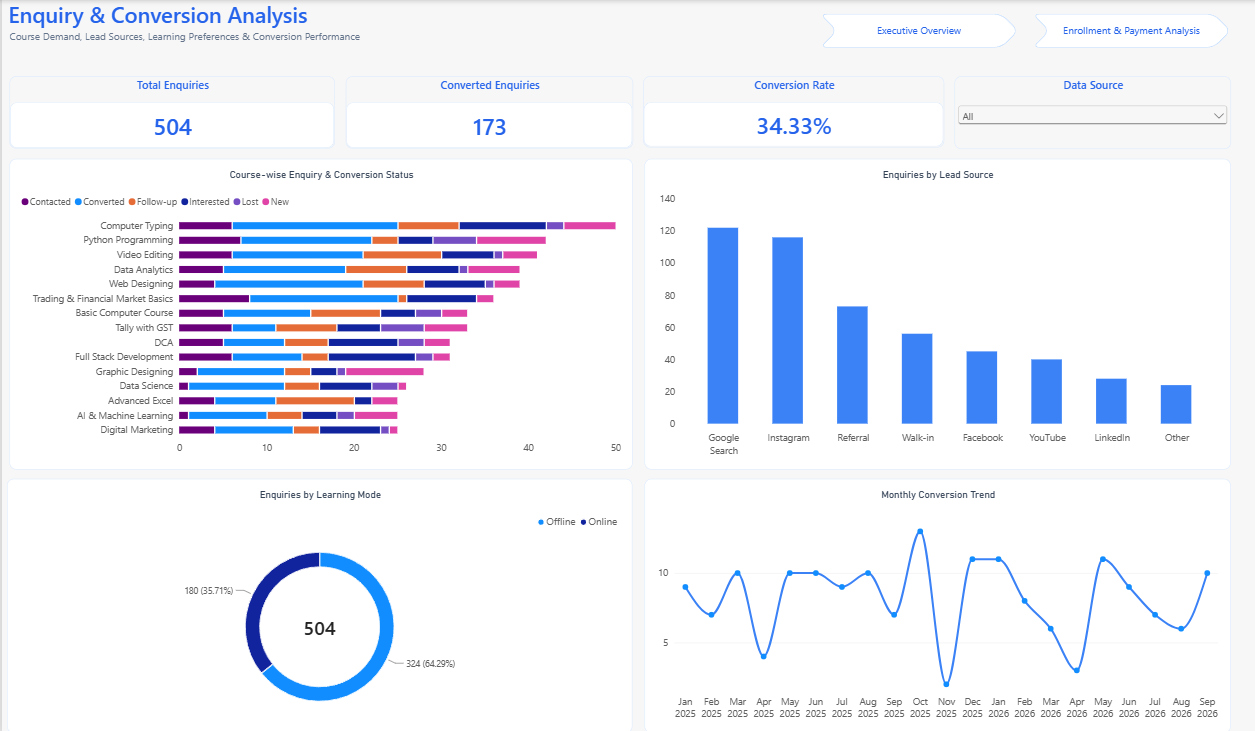

This screenshot's page, from the dashboard's own definition file:
{"tool":"powerbi","page":{"name":"Enquiry & Conversion Analysis","canvas":[1920,1080],"ordinal":1},"visuals":[{"type":"textbox","box":[10,0,524,58],"z":0},{"type":"textbox","box":[10.3,43.2,524.9,70],"z":1000},{"type":"cardVisual","title":"Total Enquiries","fields":{"Data":["CountNonNull(institute_analytics enquiries.enquiry_id)"]},"box":[10.9,112.2,479.6,106.8],"z":2000},{"type":"cardVisual","title":"Converted Enquiries","fields":{"Data":["CountNonNull(institute_analytics enquiries.enquiry_id)"]},"box":[505.5,112.2,423.5,106.8],"z":3000},{"type":"cardVisual","title":"Conversion Rate","fields":{"Data":["institute_analytics enquiries.Conversion Rate"]},"box":[944,112.2,443.4,105],"z":4000},{"type":"slicer","title":"Data Source","fields":{"Values":["institute_analytics enquiries.data_source"]},"box":[1402.5,112.2,407.5,107],"z":5000},{"type":"barChart","title":"Course-wise Enquiry & Conversion Status","fields":{"Category":["institute_analytics courses.course_name"],"Series":["institute_analytics enquiries.enquiry_status"],"Y":["CountNonNull(institute_analytics enquiries.enquiry_id)"]},"box":[10.9,233.4,917.5,457.8],"z":6000},{"type":"clusteredColumnChart","title":"Enquiries by Lead Source","fields":{"Category":["institute_analytics enquiries.lead_source"],"Y":["CountNonNull(institute_analytics enquiries.enquiry_id)"]},"box":[946.5,233.4,863.2,457.8],"z":7000},{"type":"donutChart","title":"Enquiries by Learning Mode","fields":{"Category":["institute_analytics enquiries.learning_mode"],"Y":["CountNonNull(institute_analytics enquiries.enquiry_id)"]},"box":[7.2,705.4,921.1,374.6],"z":8000},{"type":"lineChart","title":"Monthly Conversion Trend","fields":{"Category":["institute_analytics enquiries.Month Year"],"Y":["CountNonNull(institute_analytics enquiries.enquiry_id)"]},"box":[946.5,705.4,863.2,374.6],"z":9000},{"type":"pageNavigator","box":[1203.4,19.9,606.2,50.7],"z":9001}]}

Visuals, with their boxes on the page's 1920x1080 design canvas (x1, y1, x2, y2). These are canvas units, not pixel positions in the 1255x731 screenshot, which may show the page scaled, cropped or inside an application window:
textbox: pyautogui.locateOnScreen(10, 0, 534, 58)
textbox: pyautogui.locateOnScreen(10, 43, 535, 113)
"Total Enquiries" cardVisual: pyautogui.locateOnScreen(11, 112, 490, 219)
"Converted Enquiries" cardVisual: pyautogui.locateOnScreen(506, 112, 929, 219)
"Conversion Rate" cardVisual: pyautogui.locateOnScreen(944, 112, 1387, 217)
"Data Source" slicer: pyautogui.locateOnScreen(1402, 112, 1810, 219)
"Course-wise Enquiry & Conversion Status" barChart: pyautogui.locateOnScreen(11, 233, 928, 691)
"Enquiries by Lead Source" clusteredColumnChart: pyautogui.locateOnScreen(946, 233, 1810, 691)
"Enquiries by Learning Mode" donutChart: pyautogui.locateOnScreen(7, 705, 928, 1080)
"Monthly Conversion Trend" lineChart: pyautogui.locateOnScreen(946, 705, 1810, 1080)
pageNavigator: pyautogui.locateOnScreen(1203, 20, 1810, 71)
